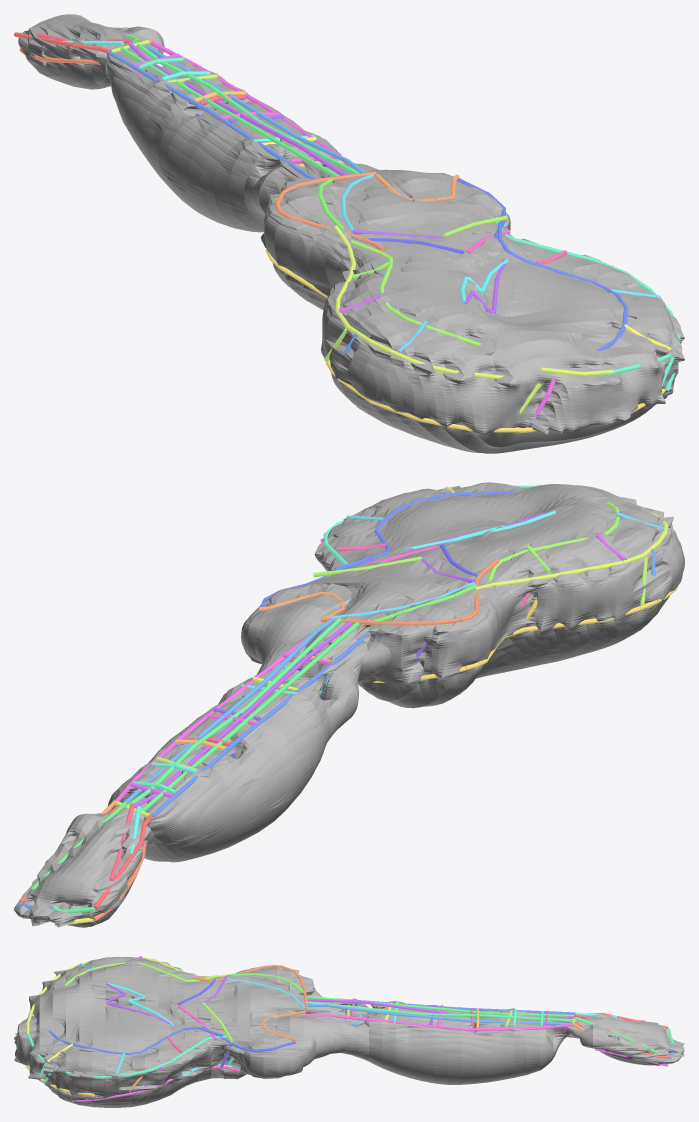
The model's file is author2_guitar.gltf.
3 renders of one model, top to bottom at view 1: azimuth 30°, elevation 25°; view 2: azimuth 150°, elevation 25°; view 3: azimuth 270°, elevation 25°, orthographic. The views are drawn at different scales.
Bounding box in the file's own units: 0.3315 × 0.1486 × 0.9659.
